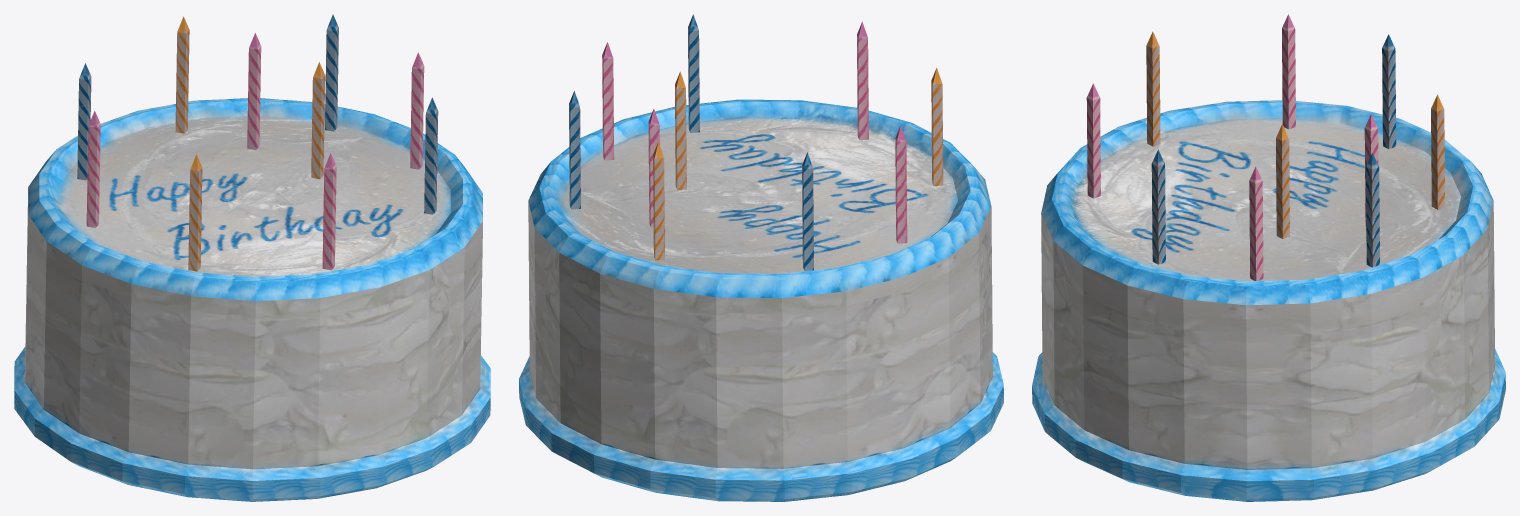
File: pastel.obj
3 views of the same model, side by side, from view 1: azimuth 30°, elevation 25°; view 2: azimuth 150°, elevation 25°; view 3: azimuth 270°, elevation 25° (orthographic). The views are drawn at different scales.
Parts seen in each view (by area): view 1: BirthdayCake01:0; view 2: BirthdayCake01:0; view 3: BirthdayCake01:0.
Part boxes in pixels (<box>): BirthdayCake01:0: <box>14,14,490,501</box>; BirthdayCake01:0: <box>519,14,1003,501</box>; BirthdayCake01:0: <box>1032,14,1505,501</box>.
Bounding box in the file's own units: 3.95 × 2.99 × 3.99.
Materials: 1 (1 with a texture image).
